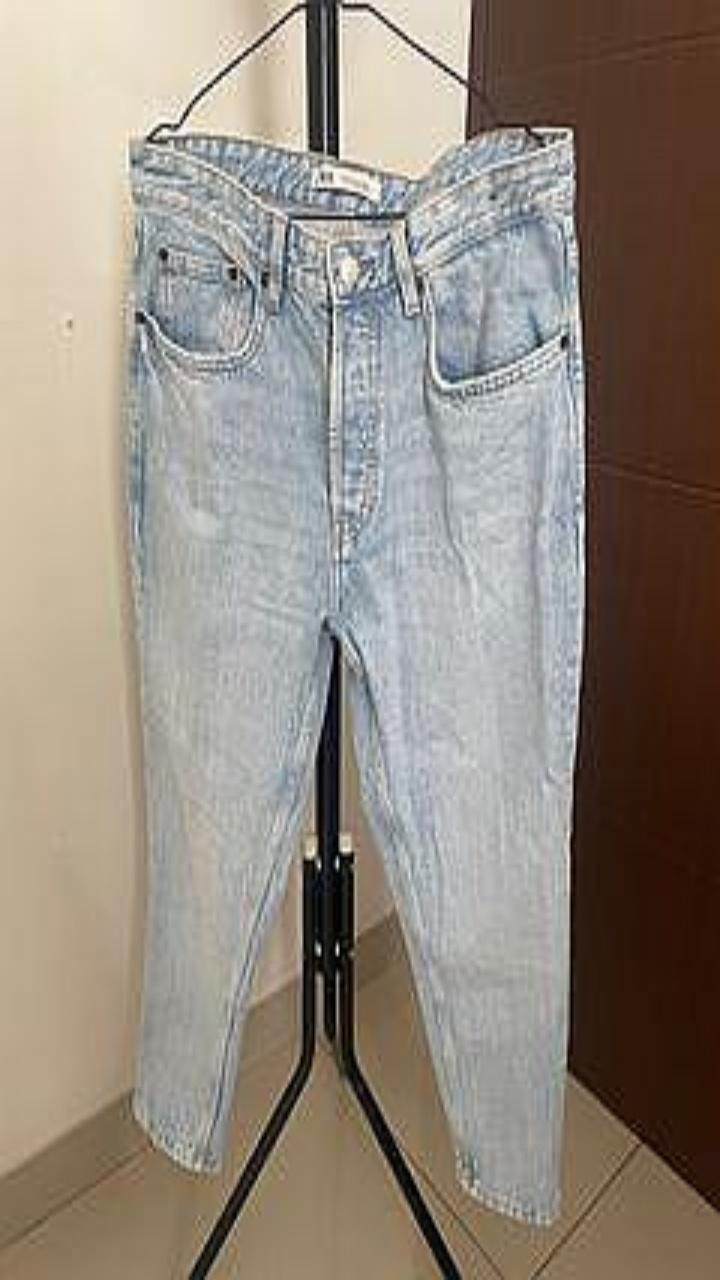Jeans: (126, 126, 584, 1223)
